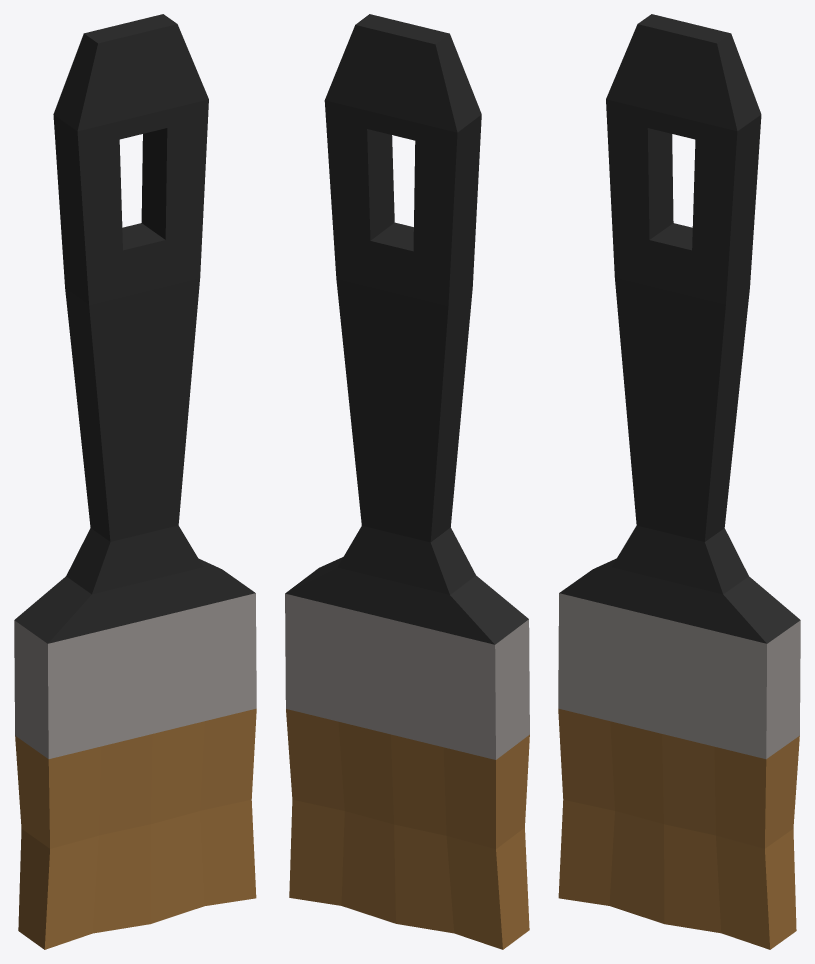
Rendered from tools-brush-straight-medium.glb.
The picture shows the model from 3 angles, left to right: view 1: azimuth 30°, elevation 25°; view 2: azimuth 150°, elevation 25°; view 3: azimuth 330°, elevation 25°; orthographic projection.
Visible parts, largest first — view 1: brush-straight-medium; view 2: brush-straight-medium; view 3: brush-straight-medium.
Boxes of the visible parts, x1,y1,x2,y2 form: brush-straight-medium: (14,14,256,949); brush-straight-medium: (285,14,529,949); brush-straight-medium: (558,14,800,949).
Bounding box in the file's own units: 0.061 × 0.2429 × 0.0172.
